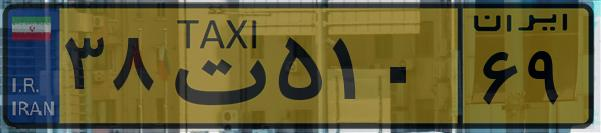0: (385, 28, 445, 110)
1: (330, 28, 385, 110)
3: (57, 26, 110, 100)
5: (270, 28, 330, 110)
6: (475, 38, 525, 113)
8: (110, 28, 158, 98)
9: (525, 38, 570, 115)
ت: (158, 12, 270, 120)
